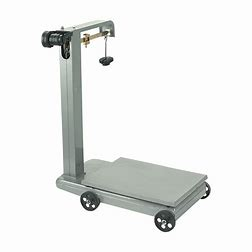Industrial Scale: (40, 19, 212, 232)
